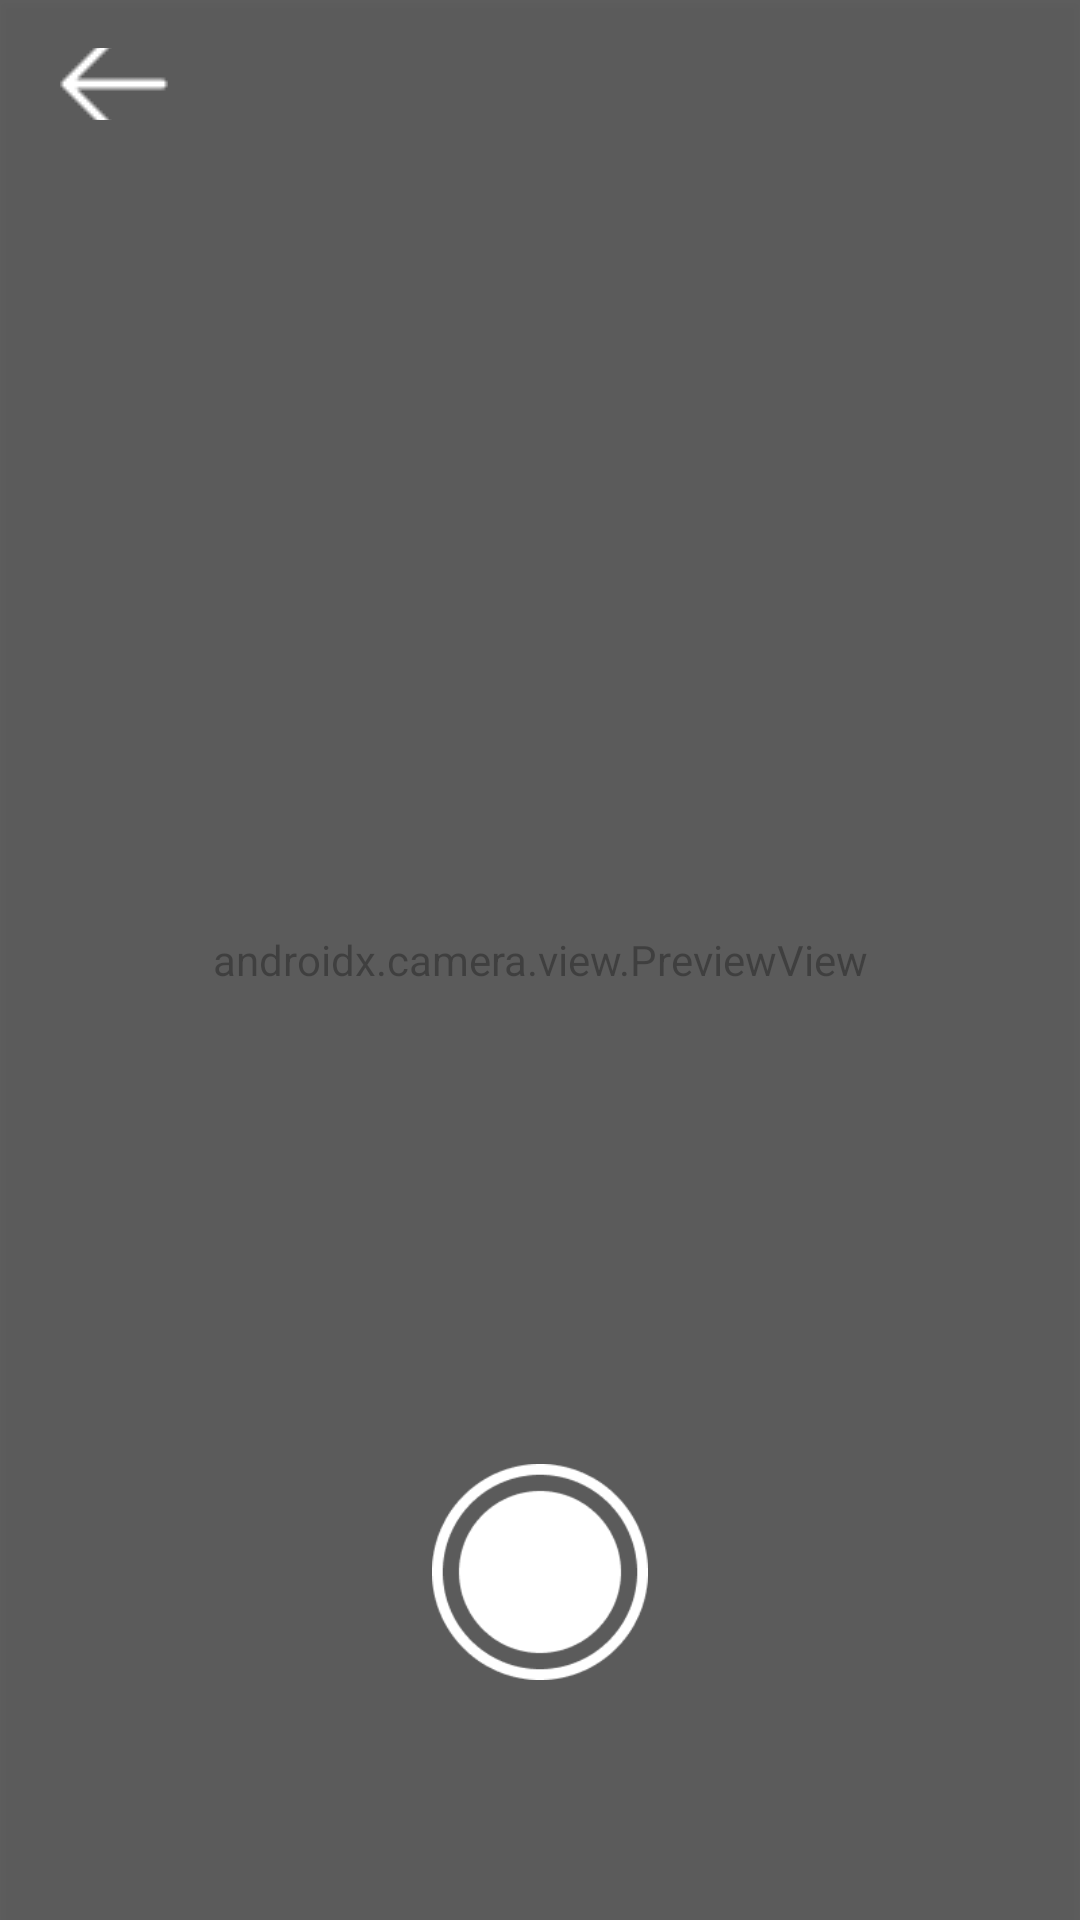

Screen size 1080 x 1920. Icon name, then its center in pixels as (x,y):
Back: (114,84)
촬영 버튼: (540,1572)
